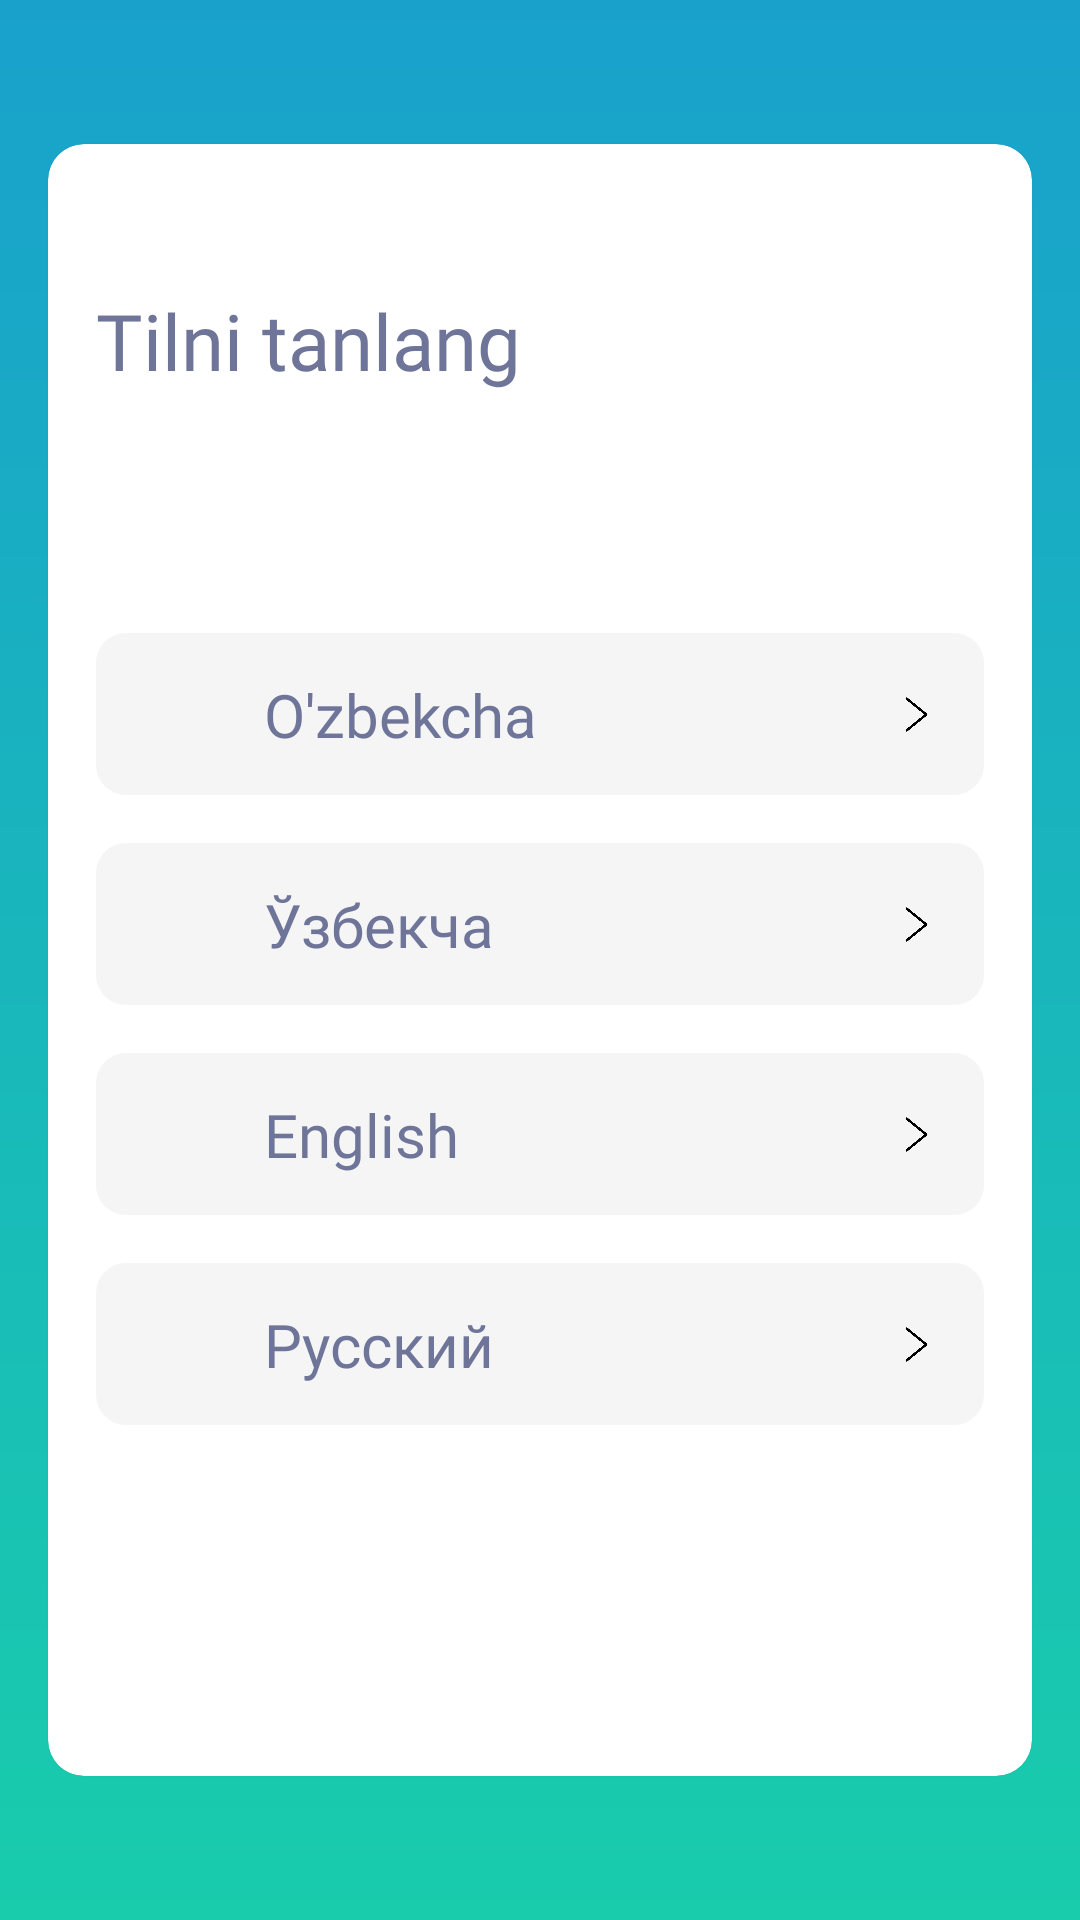

Named icons in this screenshot (1080×1920) and their bounding boxes, [x1, y1, x2, y2]:
arrow right: [906, 697, 927, 732], [906, 907, 927, 942], [906, 1117, 927, 1152], [906, 1327, 927, 1362]
